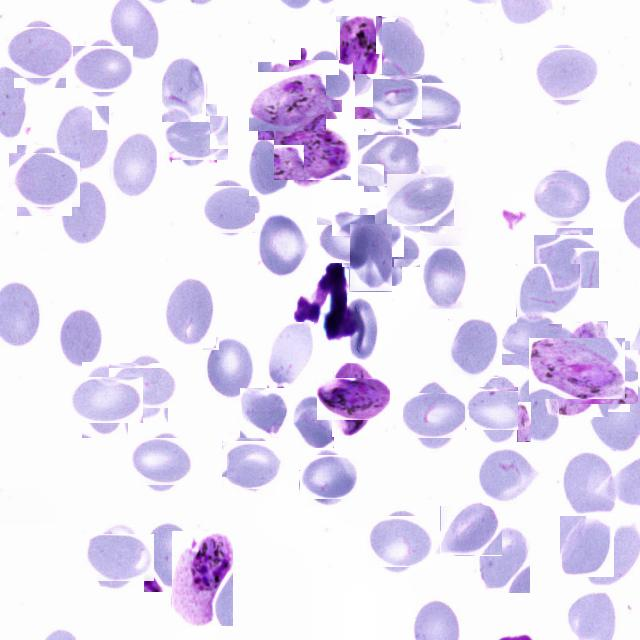difficult: (254, 66, 322, 136), (325, 371, 384, 428)
red blood cell: (13, 149, 76, 212), (164, 272, 216, 348), (572, 345, 634, 408), (536, 44, 598, 106), (516, 264, 580, 324), (476, 524, 530, 593), (10, 22, 70, 84), (74, 370, 136, 430), (254, 213, 310, 278), (351, 216, 411, 276), (88, 528, 148, 588), (390, 170, 450, 230), (537, 231, 596, 291), (54, 106, 109, 170), (202, 337, 256, 402), (563, 448, 616, 514), (370, 512, 429, 571), (116, 356, 174, 416), (144, 521, 192, 592), (560, 514, 614, 576), (110, 131, 157, 201), (362, 132, 418, 190), (166, 110, 222, 167), (407, 388, 463, 444), (202, 182, 258, 238), (267, 322, 314, 388), (440, 506, 502, 556), (135, 434, 191, 489), (224, 437, 280, 492), (472, 381, 528, 436), (361, 68, 416, 124), (402, 78, 456, 134), (421, 246, 468, 310), (477, 452, 537, 502), (378, 17, 425, 80), (448, 319, 498, 378), (162, 55, 206, 122), (61, 180, 107, 244), (349, 224, 392, 292), (536, 170, 590, 224), (506, 314, 560, 368), (76, 42, 130, 95), (320, 212, 372, 266), (59, 308, 103, 370), (302, 450, 354, 502), (296, 54, 348, 106), (517, 378, 559, 442), (240, 388, 290, 438), (294, 394, 336, 448), (249, 137, 288, 195), (348, 295, 382, 359)
schizont: (172, 531, 233, 626), (335, 16, 382, 87)
trophozoite: (538, 329, 616, 408), (278, 114, 347, 184)
